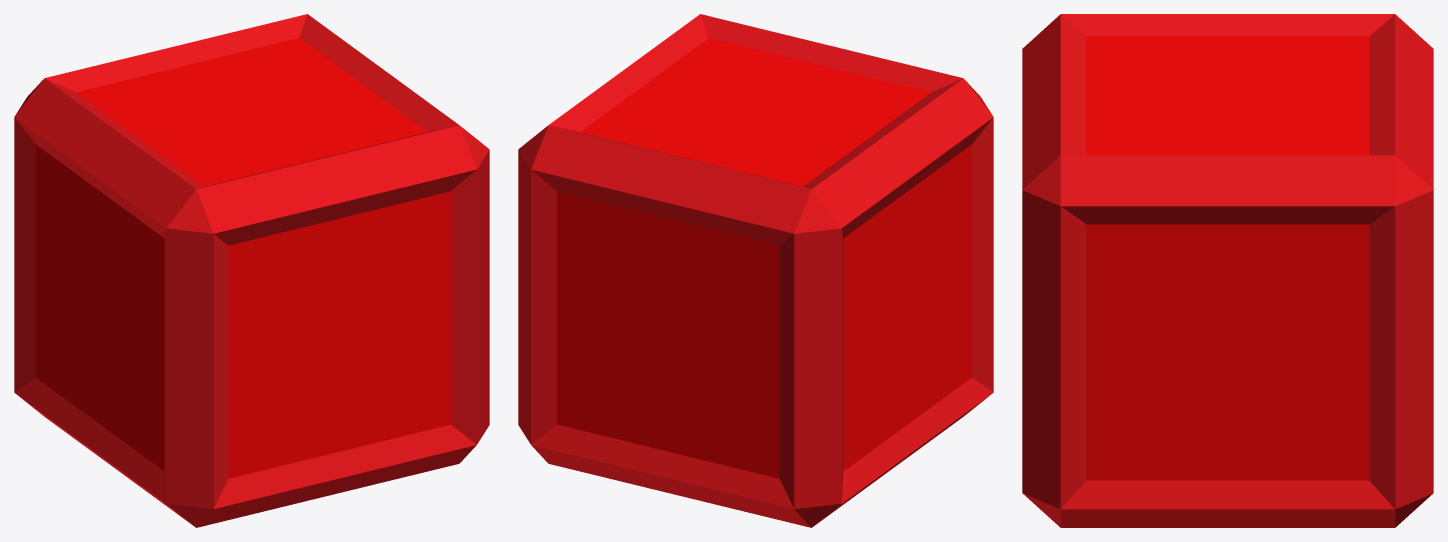
Rendered from Powerups_New_1.fbx.
3 renders of one model, left to right at view 1: azimuth 30°, elevation 25°; view 2: azimuth 150°, elevation 25°; view 3: azimuth 270°, elevation 25°, orthographic. The views are drawn at different scales.
Visible parts, largest first — view 1: New; view 2: New; view 3: New.
Boxes of the visible parts, <box> form: New: <box>14,14,489,527</box>; New: <box>518,14,993,527</box>; New: <box>1022,14,1433,527</box>.
Size of the model in its own units: 200 by 200 by 200.
